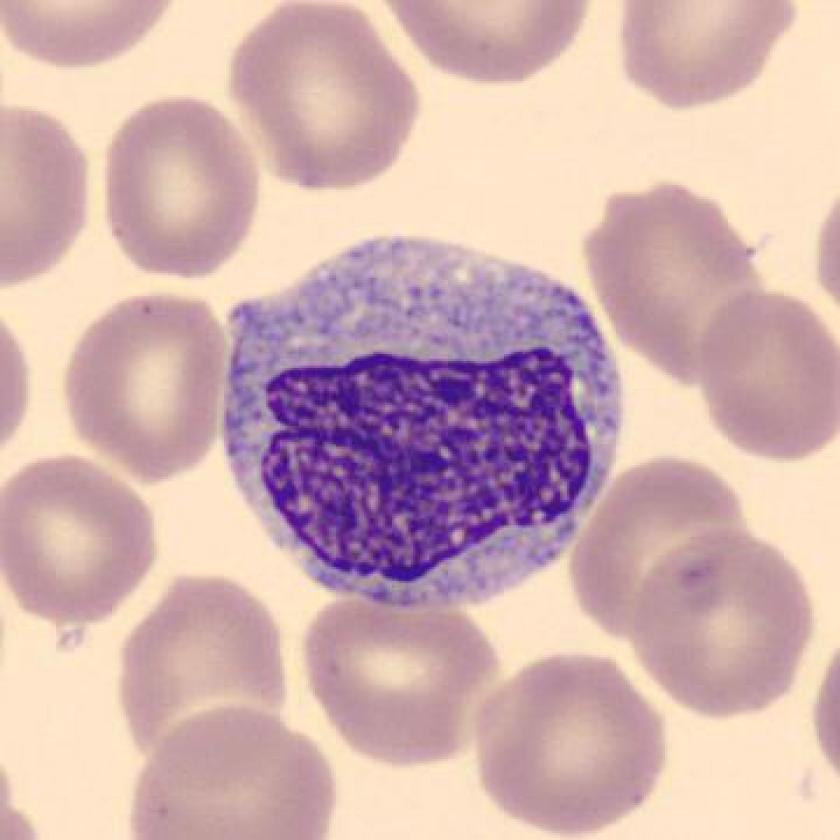monocyte: (207, 221, 648, 628)
